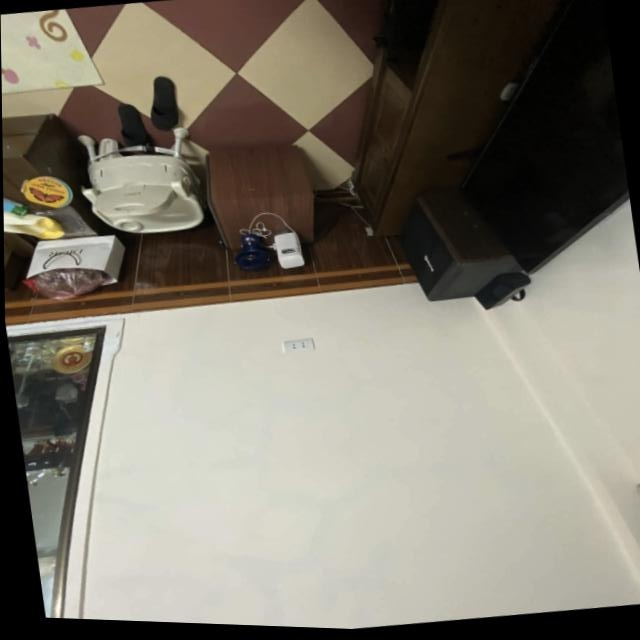outlet: (283, 336, 316, 355)
